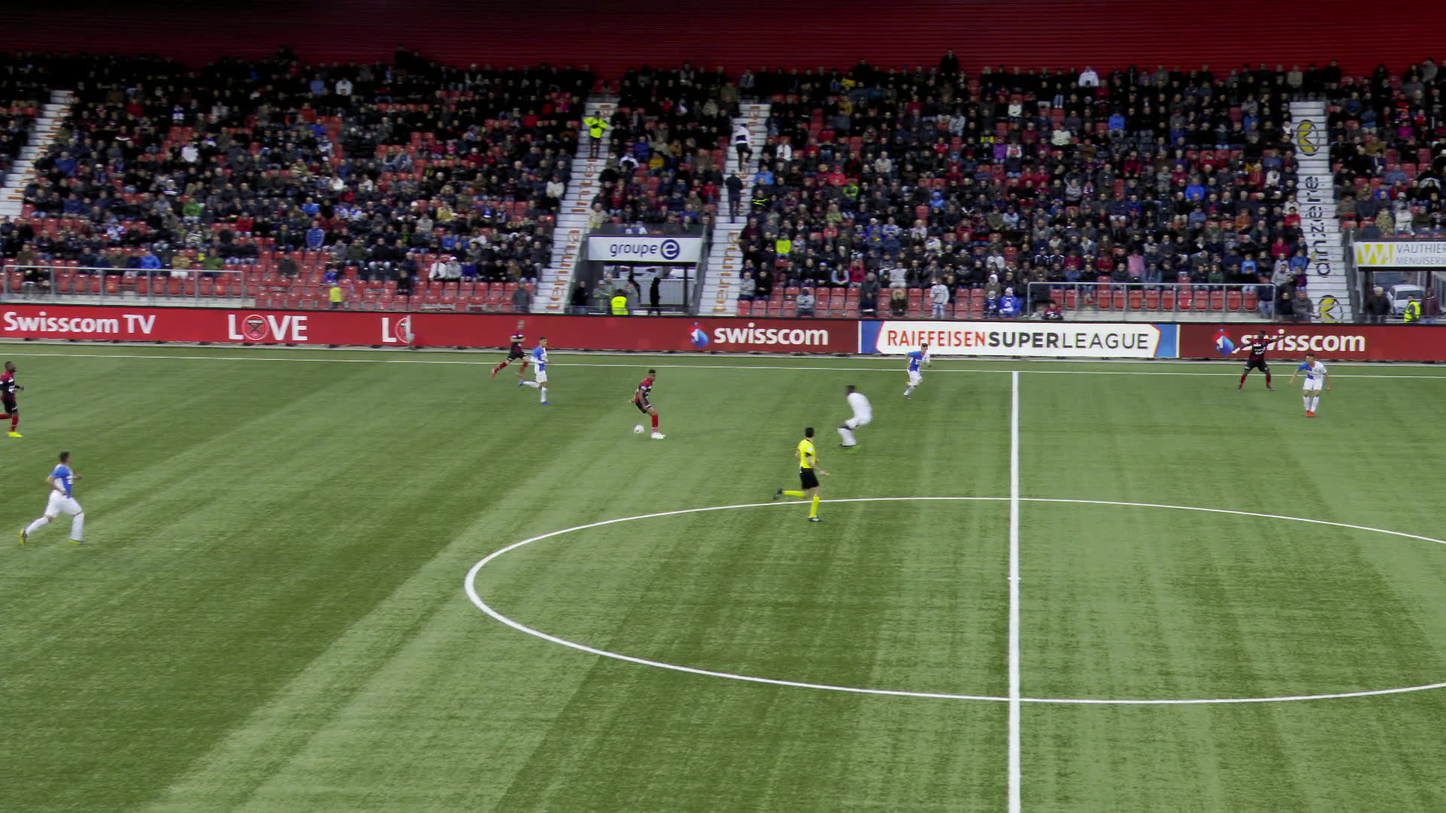ball: (634, 425, 643, 433)
player: (19, 450, 84, 546), (1237, 329, 1285, 390), (1288, 352, 1331, 417), (629, 369, 665, 438), (837, 384, 872, 452), (517, 336, 551, 406), (490, 319, 529, 380), (0, 361, 23, 437), (903, 343, 931, 400)
referee: (771, 428, 831, 522)
